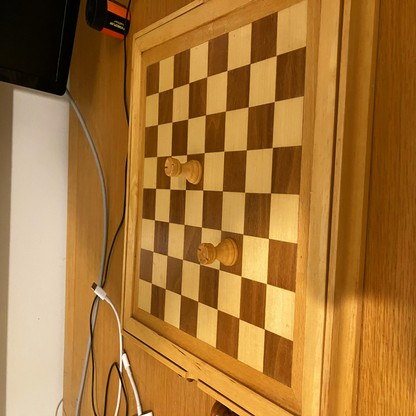rock_white: (199, 238, 238, 267), (165, 160, 201, 185)
